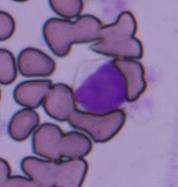L: (74, 58, 126, 114)
